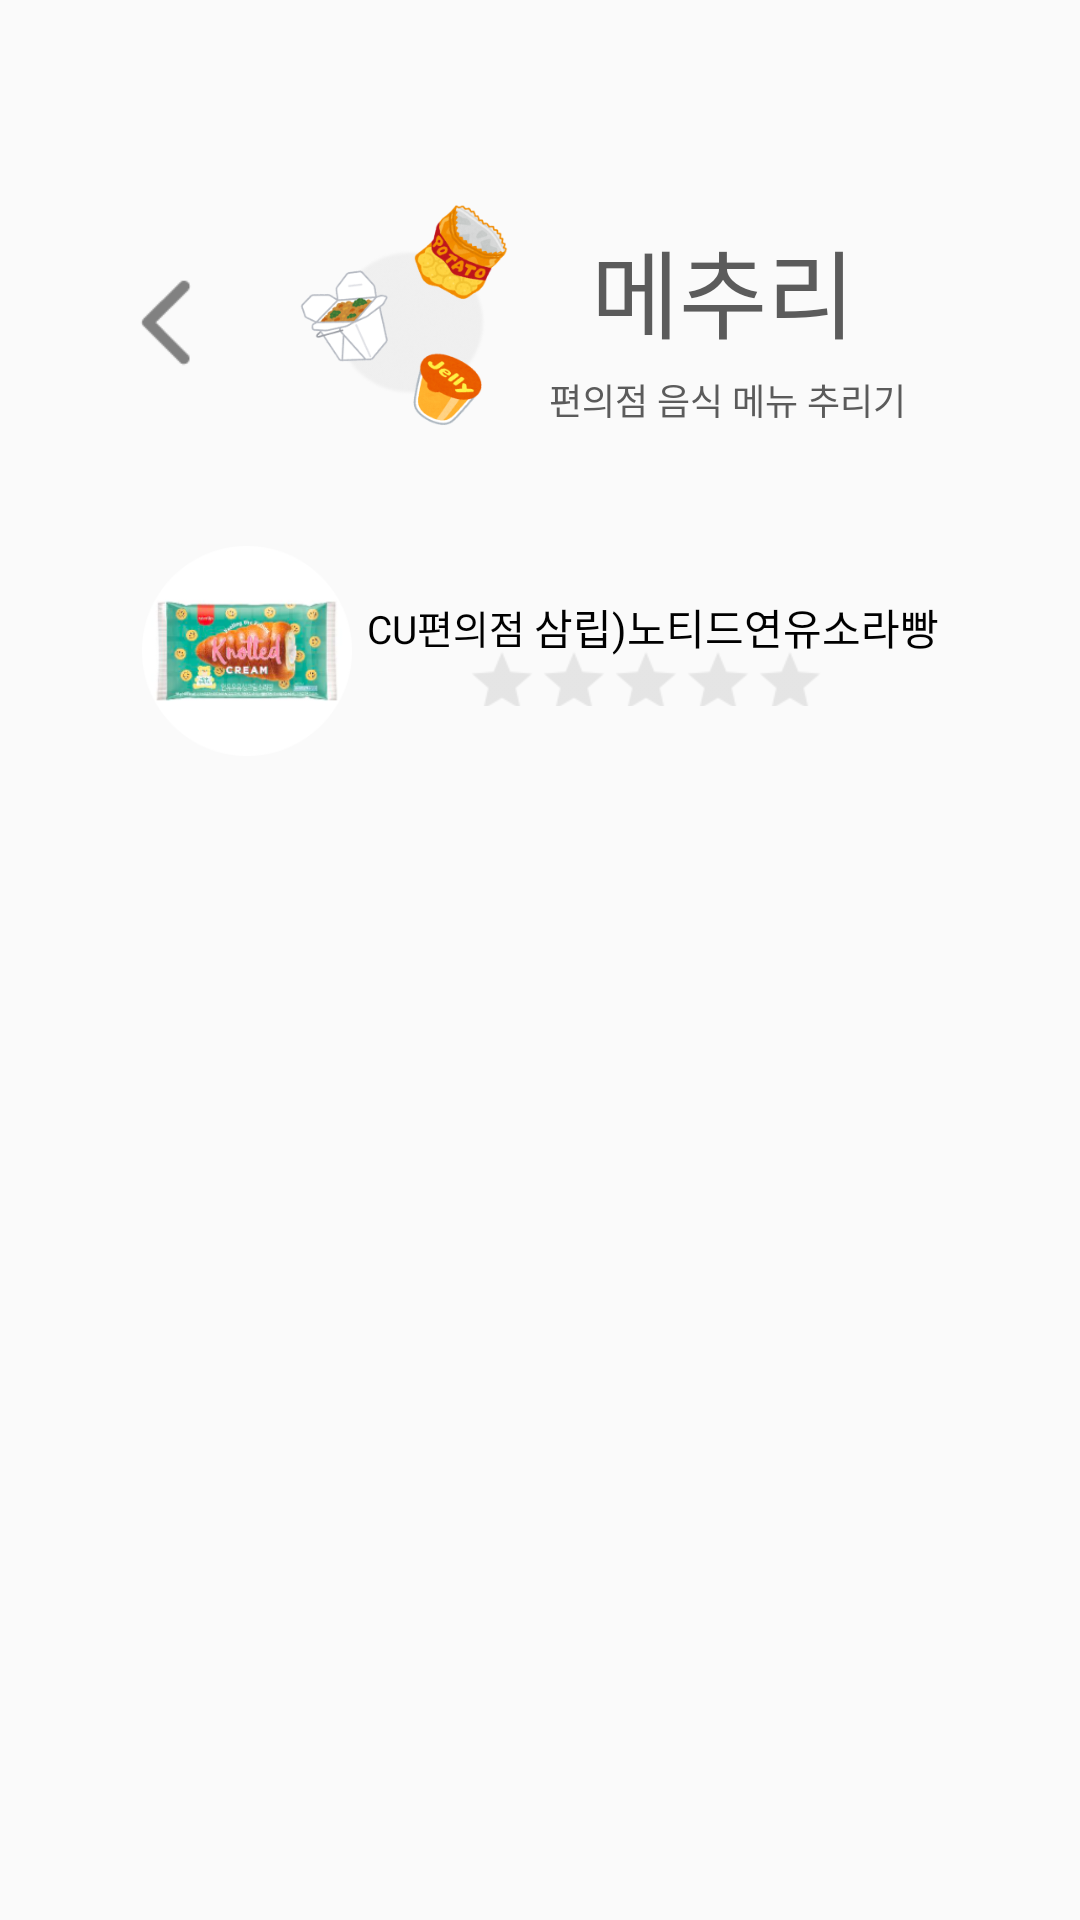

Named icons in this screenshot (1080×1920) and their centers, (x=x, y=y):
backpressbtn: (x=166, y=322)
mainicon: (x=404, y=315)
